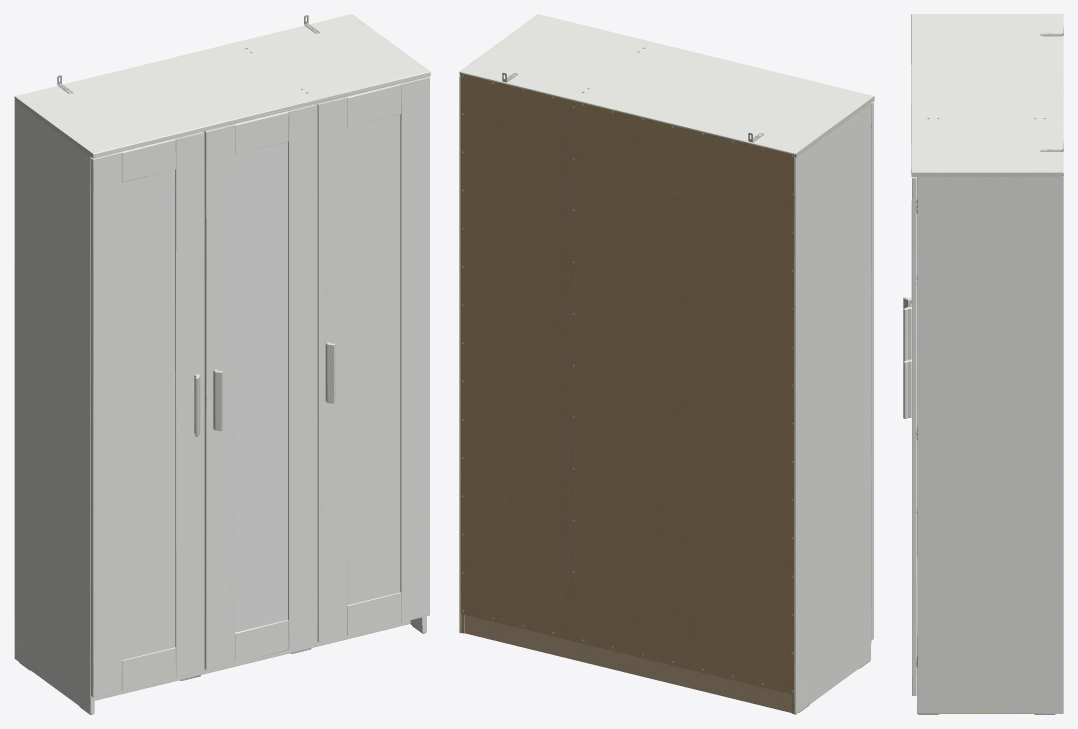
3 renders of one model, left to right at view 1: azimuth 30°, elevation 25°; view 2: azimuth 150°, elevation 25°; view 3: azimuth 270°, elevation 25°, orthographic. The views are drawn at different scales.
Visible parts, largest first — view 1: 1; view 2: 1; view 3: 1.
Boxes of the visible parts, x1=… form: 1: x1=14, y1=14, x2=430, y2=714; 1: x1=459, y1=14, x2=874, y2=714; 1: x1=903, y1=14, x2=1063, y2=714.
Size of the model in its own units: 1.17 by 1.9 by 0.5001.
2 materials, 2 textured.
